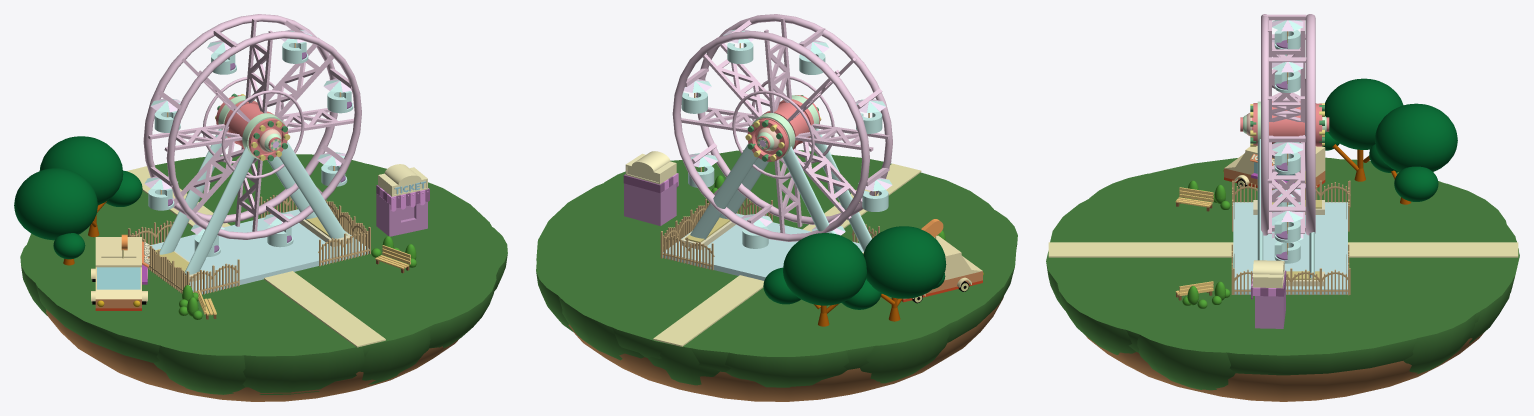
The picture shows the model from 3 angles, left to right: view 1: azimuth 30°, elevation 25°; view 2: azimuth 150°, elevation 25°; view 3: azimuth 270°, elevation 25°; orthographic projection.
Parts seen in each view (by area): view 1: hemisphere_9, hemisphere_10, hemisphere_7, hemisphere_5, box_305, hemisphere_6, hemisphere_2, circularRing_98, hemisphere_11, hemisphere_372, circularRing_99, hemisphere_1 (+30 smaller); view 2: hemisphere_10, hemisphere_4, hemisphere_2, hemisphere_3, hemisphere_11, hemisphere_9, circularRing_99, hemisphere_5, hemisphere_359, hemisphere_372, hemisphere_0, hemisphere_7 (+27 smaller); view 3: hemisphere_10, hemisphere_0, hemisphere_4, hemisphere_8, hemisphere_11, hemisphere_2, box_305, hemisphere_7, hemisphere_5, hemisphere_9, hemisphere_3, hemisphere_6 (+14 smaller).
Boxes of the visible parts, x1,y1,x2,y2 form: hemisphere_9: (92, 206, 449, 394); hemisphere_10: (25, 155, 501, 362); hemisphere_7: (218, 251, 452, 384); hemisphere_5: (122, 276, 326, 394); box_305: (150, 209, 368, 294); hemisphere_6: (231, 217, 496, 348); hemisphere_2: (20, 215, 193, 315); circularRing_98: (166, 31, 361, 239); hemisphere_11: (46, 309, 458, 401); hemisphere_372: (14, 168, 97, 222); circularRing_99: (143, 14, 337, 223); hemisphere_1: (87, 163, 297, 244); hemisphere_10: (536, 153, 1016, 372); hemisphere_4: (558, 193, 875, 360); hemisphere_2: (758, 297, 962, 383); hemisphere_3: (657, 296, 919, 387); hemisphere_11: (568, 297, 1003, 401); hemisphere_9: (668, 161, 1007, 303); circularRing_99: (672, 31, 869, 241); hemisphere_5: (842, 193, 1017, 257); hemisphere_359: (783, 233, 866, 288); hemisphere_372: (863, 226, 946, 281); hemisphere_0: (536, 222, 713, 332); hemisphere_7: (738, 156, 945, 237); hemisphere_10: (1047, 157, 1519, 375); hemisphere_0: (1285, 266, 1483, 374); hemisphere_4: (1163, 195, 1512, 343); hemisphere_8: (1118, 264, 1306, 390); hemisphere_11: (1085, 332, 1484, 401); hemisphere_2: (1238, 159, 1446, 242); box_305: (1233, 202, 1347, 294); hemisphere_7: (1046, 212, 1245, 309); hemisphere_5: (1082, 170, 1257, 258); hemisphere_9: (1050, 170, 1396, 320); hemisphere_3: (1325, 174, 1508, 279); hemisphere_6: (1057, 222, 1252, 354).
Bounding box in the file's own units: 33 × 25.52 × 33.09.
